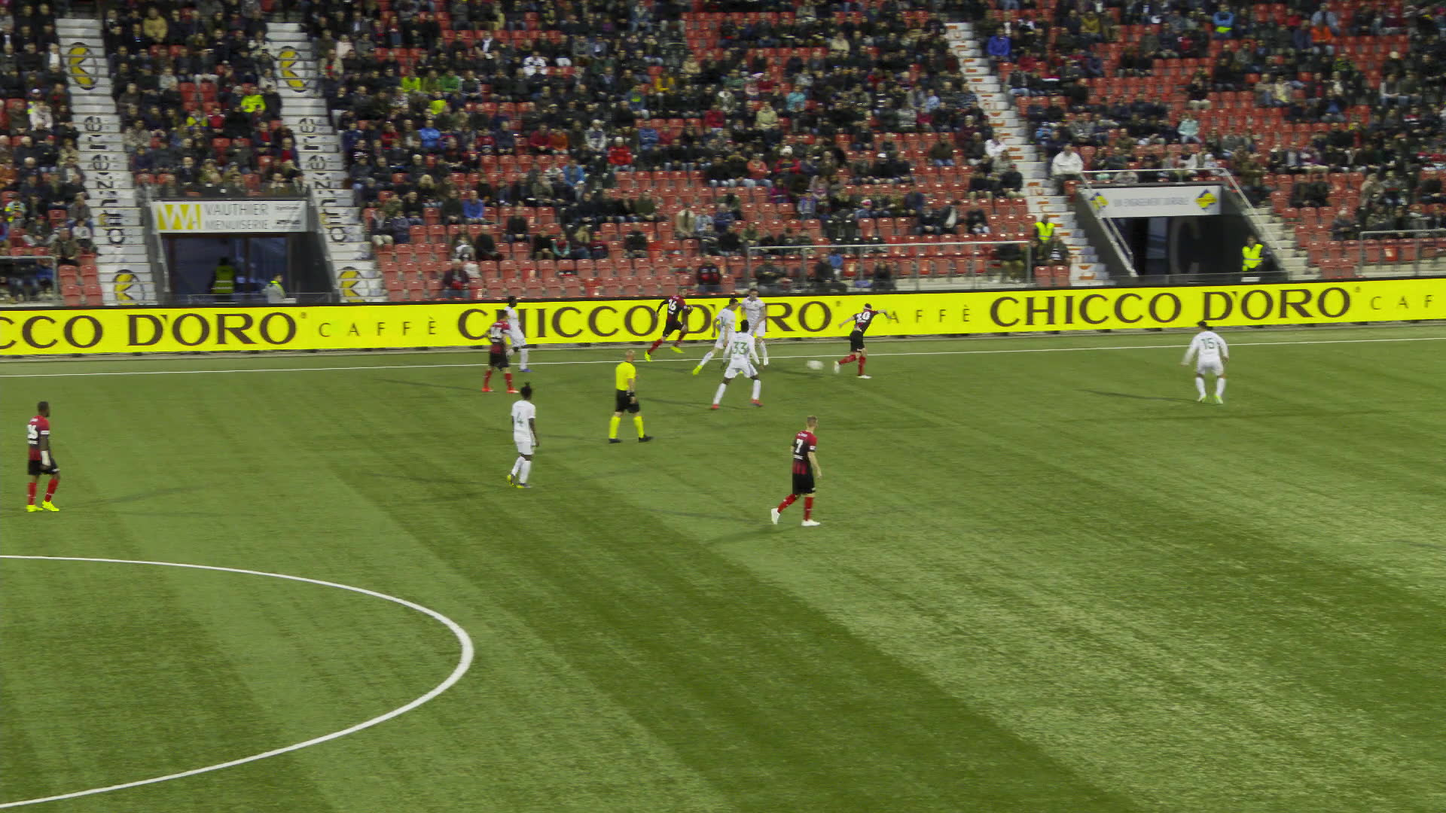ball: (808, 359, 823, 369)
player: (775, 415, 828, 525), (23, 400, 69, 511), (712, 318, 766, 410), (829, 303, 891, 379), (1176, 321, 1231, 403), (694, 299, 752, 374), (508, 382, 545, 488), (639, 285, 690, 358), (486, 309, 522, 392), (743, 289, 773, 364), (502, 293, 527, 372)
referee: (609, 349, 654, 443)
